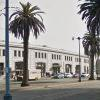Palm tree: (12, 1, 43, 72)
